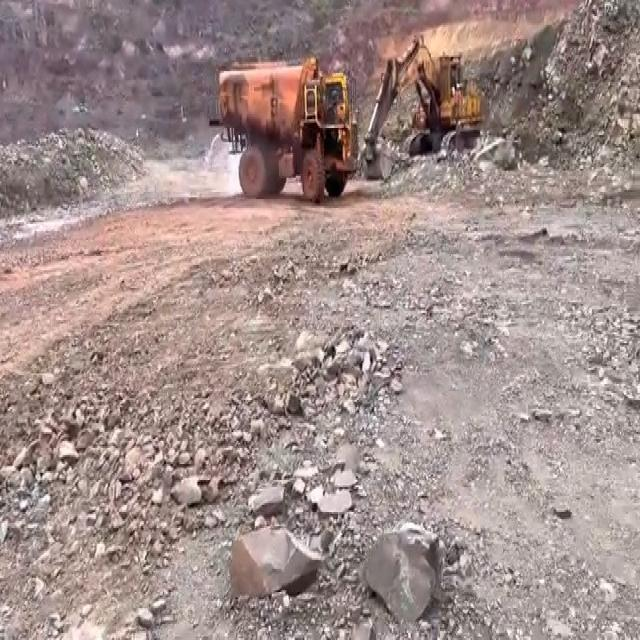dump_truck: (214, 61, 357, 199)
excavator: (365, 29, 489, 183)
